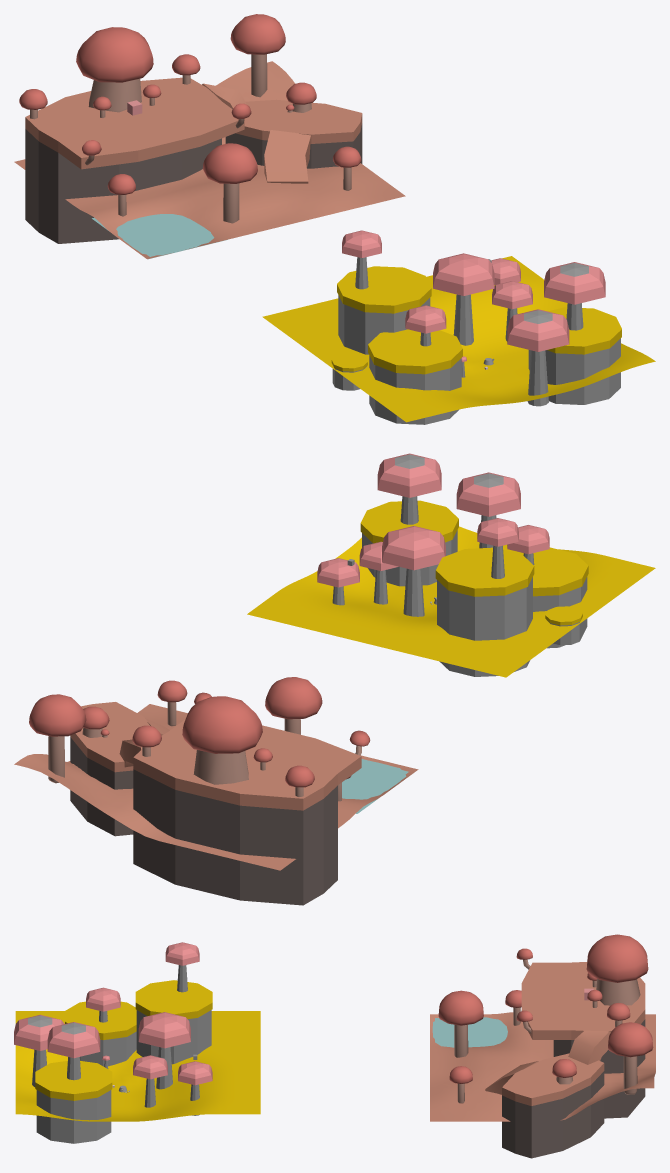
Rendered from RW_BLOCKING.fbx.
3 renders of one model, top to bottom at view 1: azimuth 30°, elevation 25°; view 2: azimuth 150°, elevation 25°; view 3: azimuth 270°, elevation 25°, orthographic. The views are drawn at different scales.
Visible parts, largest first — view 1: RW_BLOCKING; view 2: RW_BLOCKING; view 3: RW_BLOCKING.
Part boxes in pixels (<box>): RW_BLOCKING: <box>14,14,655,424</box>; RW_BLOCKING: <box>14,453,655,905</box>; RW_BLOCKING: <box>14,934,655,1158</box>.
Bounding box in the file's own units: 140 × 80.17 × 320.
